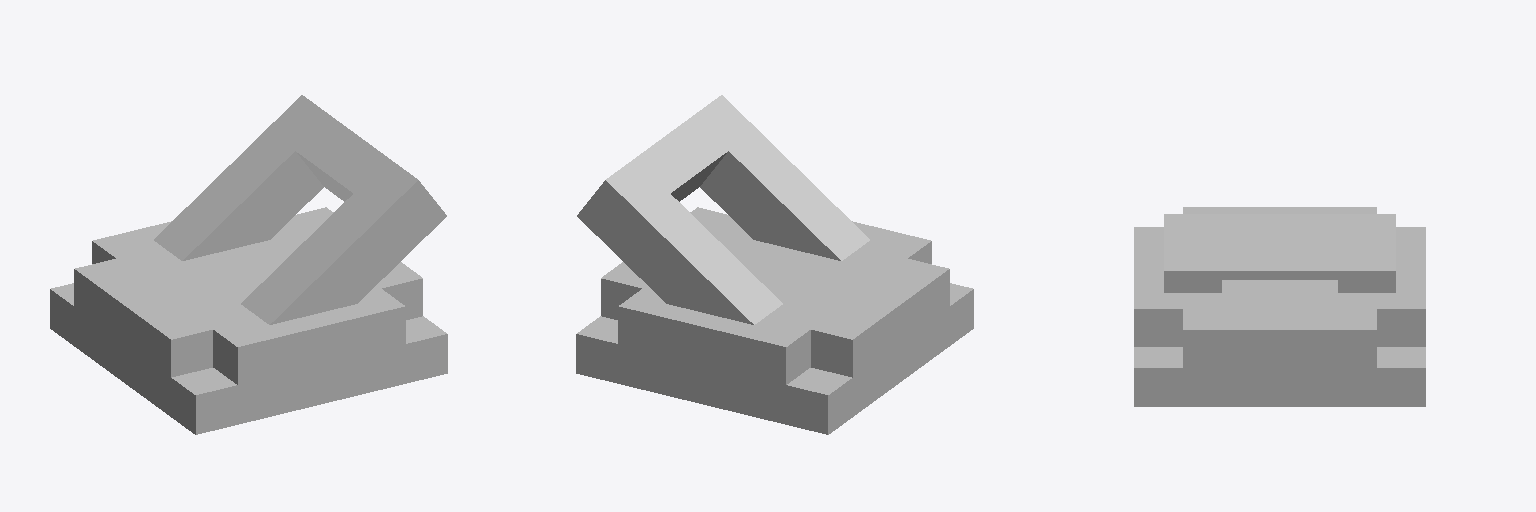
File: tardis_demat_off.obj
3 renders of one model, left to right at view 1: azimuth 30°, elevation 25°; view 2: azimuth 150°, elevation 25°; view 3: azimuth 270°, elevation 25°, orthographic.
Parts seen in each view (by area): view 1: Cube.002, Cube.003; view 2: Cube.002, Cube.003; view 3: Cube.002, Cube.003.
Part boxes in pixels (x1,y1,x2,y2): Cube.002: (50, 207, 447, 434); Cube.003: (154, 95, 446, 324); Cube.002: (576, 207, 973, 434); Cube.003: (577, 95, 869, 324); Cube.002: (1134, 207, 1425, 406); Cube.003: (1164, 214, 1395, 292).
Bounding box in the file's own units: 1.06 × 0.7074 × 1.